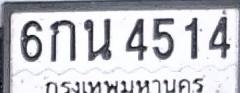1: (184, 16, 198, 58)
4: (125, 18, 147, 60), (208, 16, 230, 58)
5: (152, 17, 174, 60)
6: (20, 20, 42, 62)
A01: (50, 19, 76, 62)
A25: (83, 18, 111, 60)
BKK: (43, 77, 207, 93)
